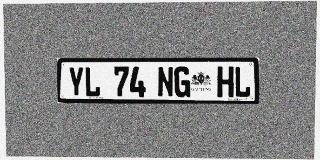4: (130, 67, 146, 97)
7: (113, 67, 129, 97)
G: (174, 67, 190, 97)
H: (217, 66, 234, 97)
L: (234, 66, 251, 97), (84, 67, 100, 97)
N: (157, 67, 174, 97)
Y: (68, 67, 84, 97)
